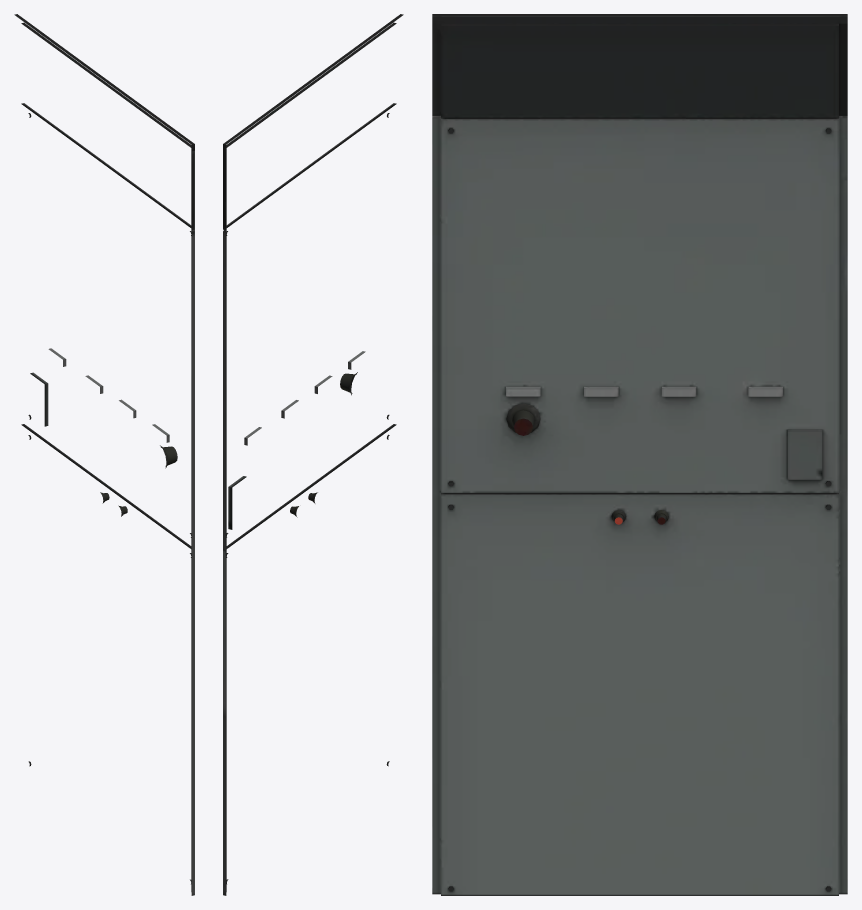
3 views of the same model, side by side, from view 1: azimuth 30°, elevation 25°; view 2: azimuth 150°, elevation 25°; view 3: azimuth 270°, elevation 25° (orthographic). The views are drawn at different scales.
Visible parts, largest first — view 1: body0_model0_lod0_mesh0; view 2: body0_model0_lod0_mesh0; view 3: body0_model0_lod0_mesh0.
Boxes of the visible parts, <box> form: body0_model0_lod0_mesh0: <box>14,14,194,895</box>; body0_model0_lod0_mesh0: <box>223,14,403,895</box>; body0_model0_lod0_mesh0: <box>432,14,847,895</box>.
Size of the model in its own units: 3.25 by 112 by 47.99.
Materials: 1 (1 with a texture image).
